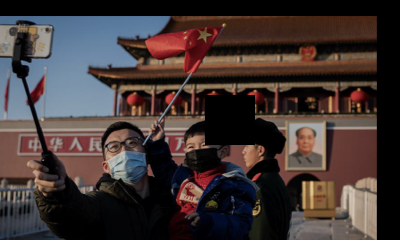with_mask: (105, 134, 147, 183), (184, 139, 219, 171)
without_mask: (242, 141, 257, 167)
